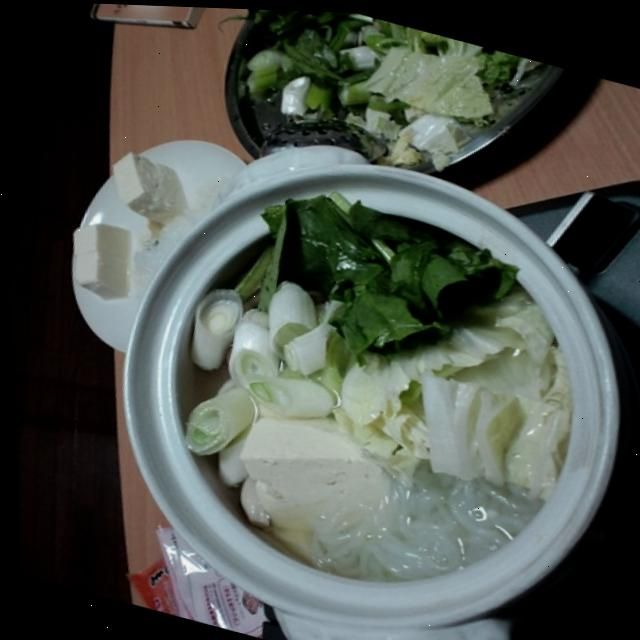豆腐料理: (83, 108, 626, 640)
